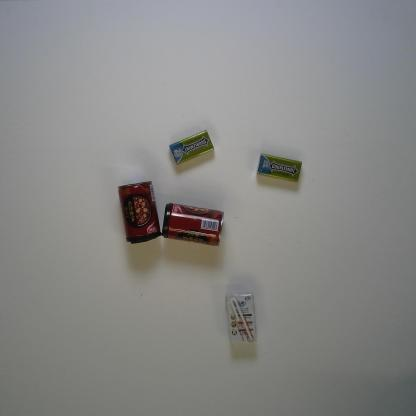Canned Food: (161, 201, 226, 247), (116, 178, 160, 245)
Gum: (167, 128, 216, 168), (254, 153, 303, 183)
Milk: (223, 292, 258, 348)
